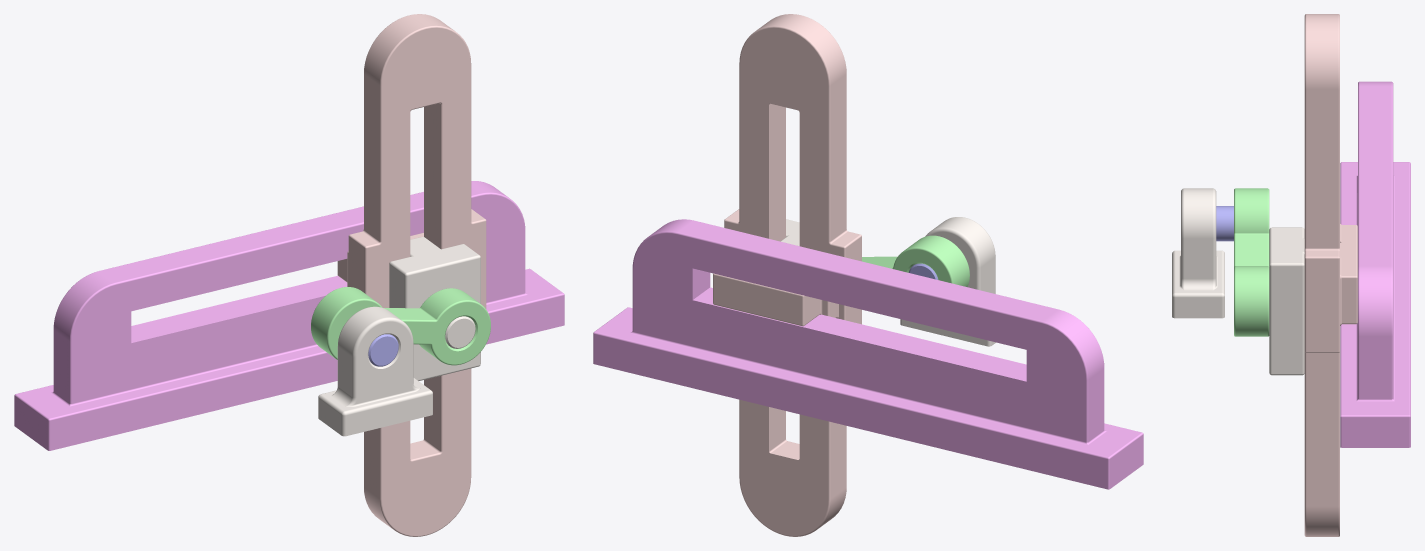
File: assemblagecswa1 (2) (2) (4).glb
3 renders of one model, left to right at view 1: azimuth 30°, elevation 25°; view 2: azimuth 150°, elevation 25°; view 3: azimuth 270°, elevation 25°, orthographic.
Visible parts, largest first — view 1: Bâti-4, Glissière-1, Guidage-1, Connecteur-1, Bielle-1, Broche de connexion-1; view 2: Bâti-4, Glissière-1, Guidage-1, Bielle-1; view 3: Bâti-4, Glissière-1, Guidage-1, Bielle-1, Connecteur-1, Broche de connexion-1.
Part boxes in pixels (x1,y1,x2,y2): Bâti-4: (14,181,564,450); Glissière-1: (337,14,486,536); Guidage-1: (318,306,432,436); Connecteur-1: (389,236,480,380); Bielle-1: (311,287,490,365); Broche de connexion-1: (368,334,398,366); Bâti-4: (593,219,1143,489); Glissière-1: (713,14,861,536); Guidage-1: (900,217,995,346); Bielle-1: (862,235,969,286); Bâti-4: (1340,81,1410,447); Glissière-1: (1304,14,1357,536); Guidage-1: (1172,188,1224,318); Bielle-1: (1234,188,1269,336); Connecteur-1: (1269,227,1304,375); Broche de connexion-1: (1216,206,1233,241).
Size of the model in its own units: 1.64 by 1.54 by 0.6501.
